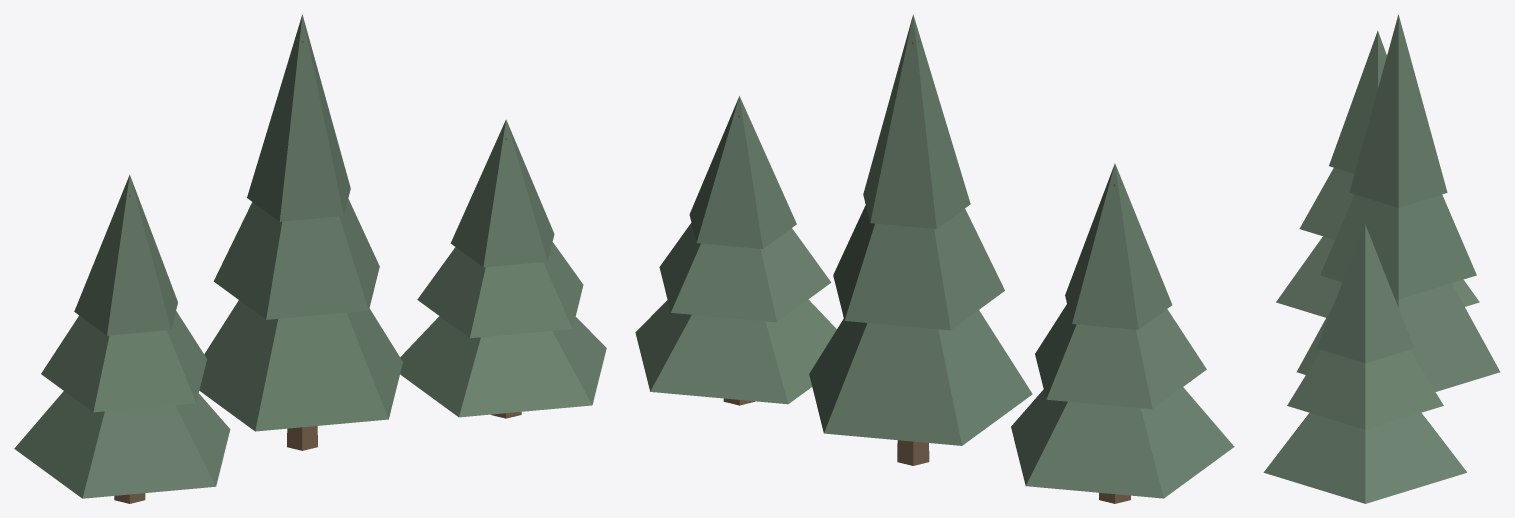
File: map-exclusive-v3__ridge_13.glb
3 views of the same model, side by side, from view 1: azimuth 30°, elevation 25°; view 2: azimuth 150°, elevation 25°; view 3: azimuth 270°, elevation 25° (orthographic). The views are drawn at different scales.
Visible parts, largest first — view 1: ridge_13; view 2: ridge_13; view 3: ridge_13.
Part boxes in pixels (left/top/right/bottom): ridge_13: left=14, top=14, right=606, bottom=503; ridge_13: left=635, top=14, right=1234, bottom=503; ridge_13: left=1263, top=14, right=1500, bottom=503.
Bounding box in the file's own units: 2.85 × 2.12 × 1.15.
